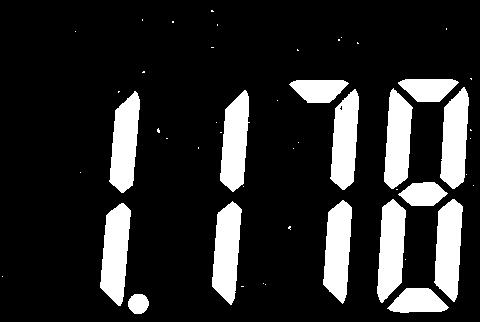1: (96, 83, 143, 311), (211, 88, 253, 309)
7: (287, 79, 360, 311)
8: (373, 73, 474, 316)
dot: (125, 292, 153, 316)
